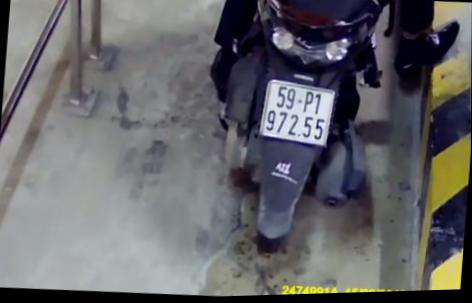LP: (257, 77, 338, 152)
